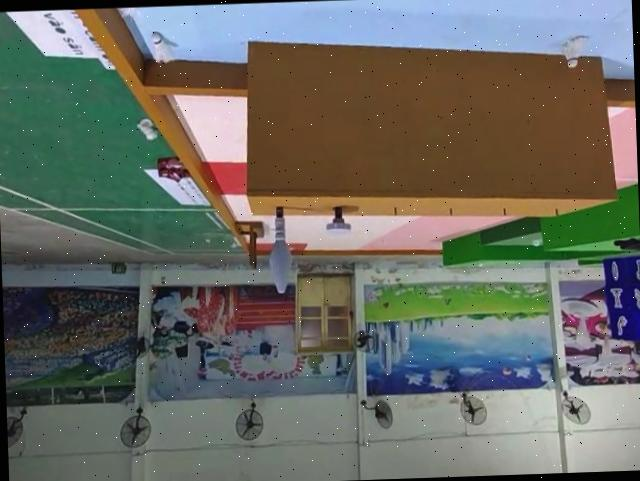Hand: (325, 206, 352, 235)
Sph: (267, 206, 293, 296)
